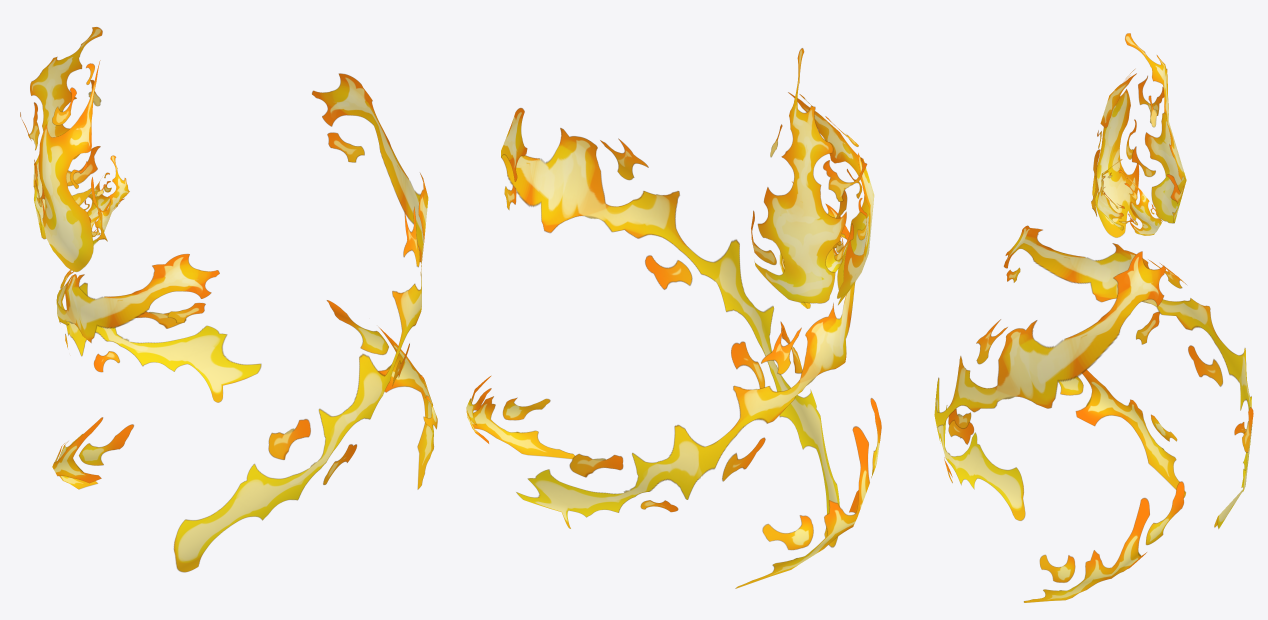
The model's file is fire-TYLjKS2I.glb.
The picture shows the model from 3 angles, left to right: view 1: azimuth 30°, elevation 25°; view 2: azimuth 150°, elevation 25°; view 3: azimuth 270°, elevation 25°; orthographic projection. The views are drawn at different scales.
Visible parts, largest first — view 1: Object_2; view 2: Object_2; view 3: Object_2.
Boxes of the visible parts, <box> form: Object_2: <box>20,27,437,572</box>; Object_2: <box>466,48,881,588</box>; Object_2: <box>934,33,1253,602</box>.
Bounding box in the file's own units: 75.73 × 104 × 57.07.
Materials: 1 (1 with a texture image).
